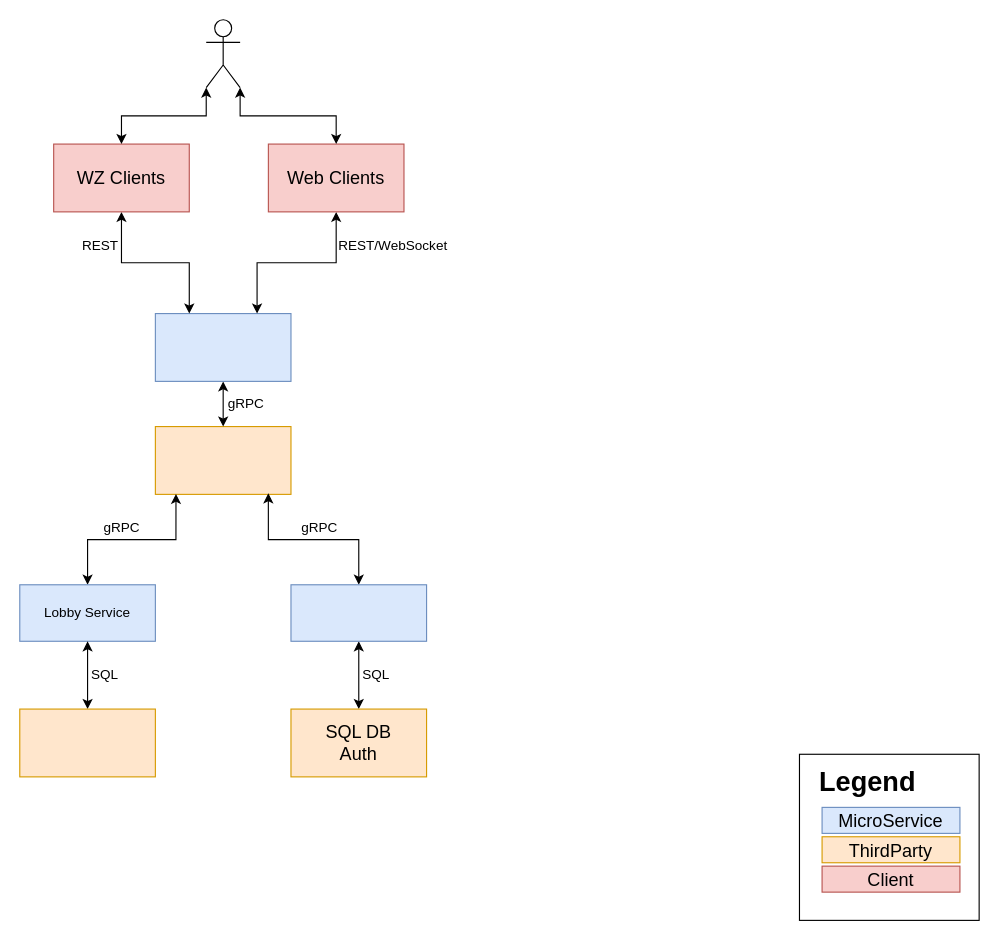
This 999x940 diagram has some shape labels left out. Here are the shapes that lost their labels. From the top down, the box of each, then its label:
(154, 312, 291, 381): Main Service
(154, 425, 291, 494): NATS Broker
(290, 584, 427, 641): Auth Service
(19, 708, 155, 777): SQL DB Lobby
